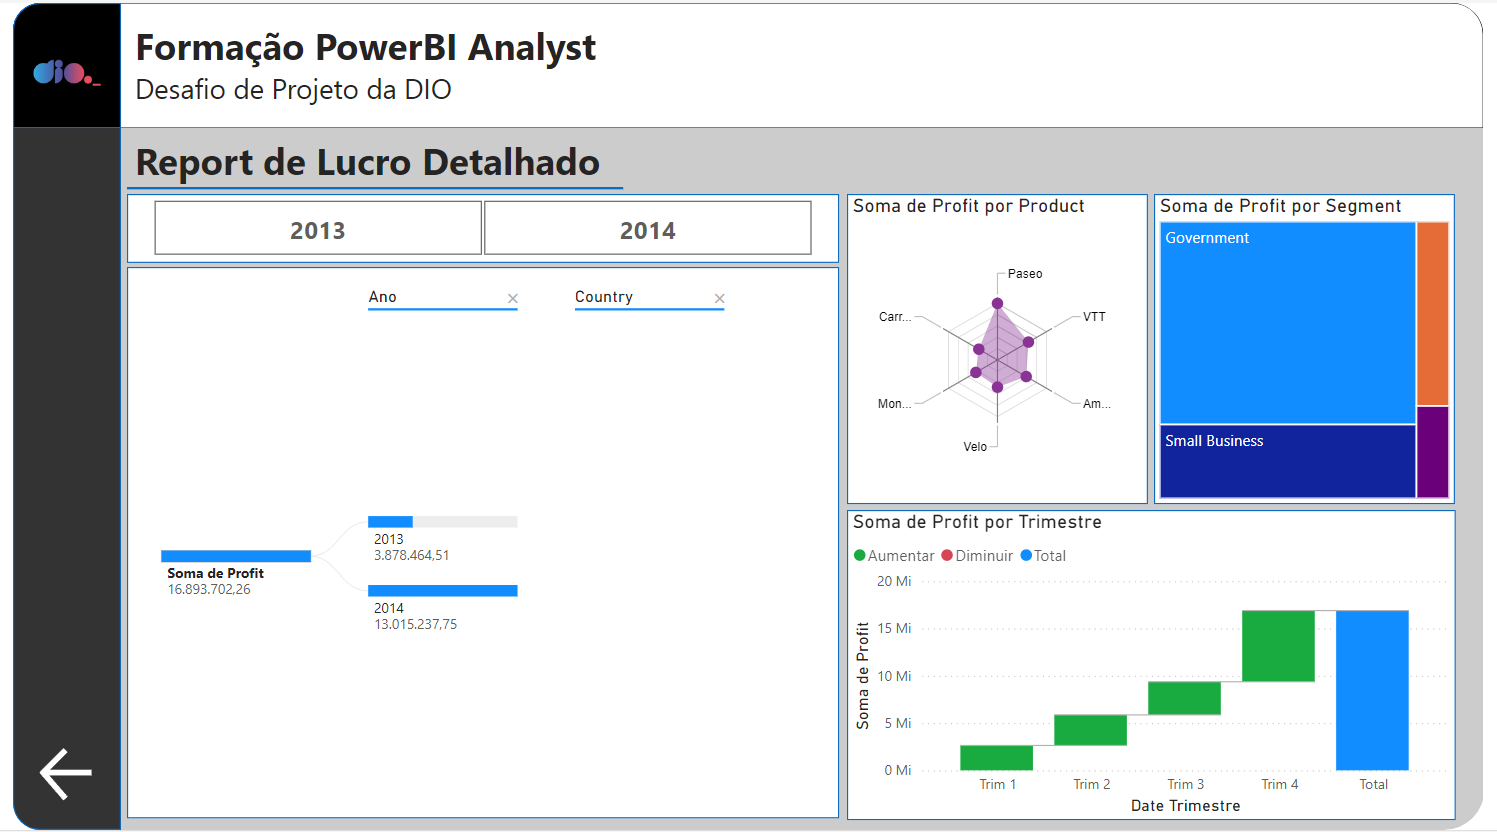

The page's visual inventory and layout, read from the dashboard file:
{"tool":"powerbi","page":{"name":"Detailed Report","canvas":[1280,720],"ordinal":1},"visuals":[{"type":"group","id":"g1","title":"Title and Bg","box":[0,0,1281,720],"z":0},{"type":"shape","box":[0,0,94,720],"z":0,"group":"g4"},{"type":"shape","box":[0,0,1280,108.8],"z":0,"group":"g2"},{"type":"shape","title":"Background","box":[0,0,1281,720],"z":0,"group":"g1"},{"type":"shape","box":[99,157,432,9],"z":0,"group":"g3"},{"type":"shape","box":[0,0,94,109],"z":1000,"group":"g4"},{"type":"group","id":"g2","title":"Titlebar","box":[0,0,1280,108.9],"z":1000,"group":"g1"},{"type":"textbox","box":[101,10,525,85.8],"z":1000,"group":"g2"},{"type":"group","id":"g3","title":"Page Title","box":[99,109.9,432,56.1],"z":1000},{"type":"textbox","box":[101,109.9,430,52.5],"z":1000,"group":"g3"},{"type":"shape","box":[99,166,620,60],"z":1001},{"type":"shape","box":[99,230,620,480],"z":1002},{"type":"shape","box":[726,441,530,270],"z":1003},{"type":"shape","box":[726,166,262,270],"z":1004},{"type":"decompositionTreeVisual","fields":{"ExplainBy":["financials.Date.Variation.Hierarquia de datas.Ano","financials.Country"],"Analyze":["Sum(financials.Profit)"]},"box":[99,231,620,480],"z":1005},{"type":"shape","box":[993,166,262,270],"z":1006},{"type":"treemap","fields":{"Group":["financials.Segment"],"Values":["Sum(financials.Profit)"]},"box":[993,166,262,270],"z":1007},{"type":"RadarChart1446119667547","fields":{"Category":["financials.Product"],"Y":["Sum(financials.Profit)"]},"box":[726,166,262,270],"z":1008},{"type":"waterfallChart","fields":{"Y":["Sum(financials.Profit)"],"Category":["financials.Date.Variation.Hierarquia de datas.Trimestre"]},"box":[726,441,529,270],"z":1011},{"type":"slicer","fields":{"Values":["financials.Date.Variation.Hierarquia de datas.Ano"]},"box":[99,167,620,57],"z":1012},{"type":"group","id":"g4","title":"Sidebar","box":[0,0,94,720],"z":2000,"group":"g1"},{"type":"image","box":[0,13,94,96],"z":2000,"group":"g4"},{"type":"actionButton","box":[18.8,643.8,57.5,56.2],"z":7001,"group":"g1"}]}

Visuals, with their boxes in screenshot pixels (x1, y1, x2, y2), scaled from the page's 1280x720 canvas onto the 1497x832 screenshot:
"Title and Bg" group: Rect(0, 0, 1496, 831)
shape: Rect(0, 0, 110, 831)
shape: Rect(0, 0, 1496, 126)
"Background" shape: Rect(0, 0, 1496, 831)
shape: Rect(116, 181, 621, 192)
shape: Rect(0, 0, 110, 126)
"Titlebar" group: Rect(0, 0, 1496, 126)
textbox: Rect(118, 12, 732, 111)
"Page Title" group: Rect(116, 127, 621, 192)
textbox: Rect(118, 127, 621, 188)
shape: Rect(116, 192, 841, 261)
shape: Rect(116, 266, 841, 820)
shape: Rect(849, 510, 1469, 822)
shape: Rect(849, 192, 1155, 504)
decompositionTreeVisual - financials.Date.Variation.Hierarquia de datas.Ano x financials.Country: Rect(116, 267, 841, 822)
shape: Rect(1161, 192, 1468, 504)
treemap - financials.Segment x Sum(financials.Profit): Rect(1161, 192, 1468, 504)
RadarChart1446119667547 - financials.Product x Sum(financials.Profit): Rect(849, 192, 1155, 504)
waterfallChart - Sum(financials.Profit) x financials.Date.Variation.Hierarquia de datas.Trimestre: Rect(849, 510, 1468, 822)
slicer - financials.Date.Variation.Hierarquia de datas.Ano: Rect(116, 193, 841, 259)
"Sidebar" group: Rect(0, 0, 110, 831)
image: Rect(0, 15, 110, 126)
actionButton: Rect(22, 744, 89, 809)
